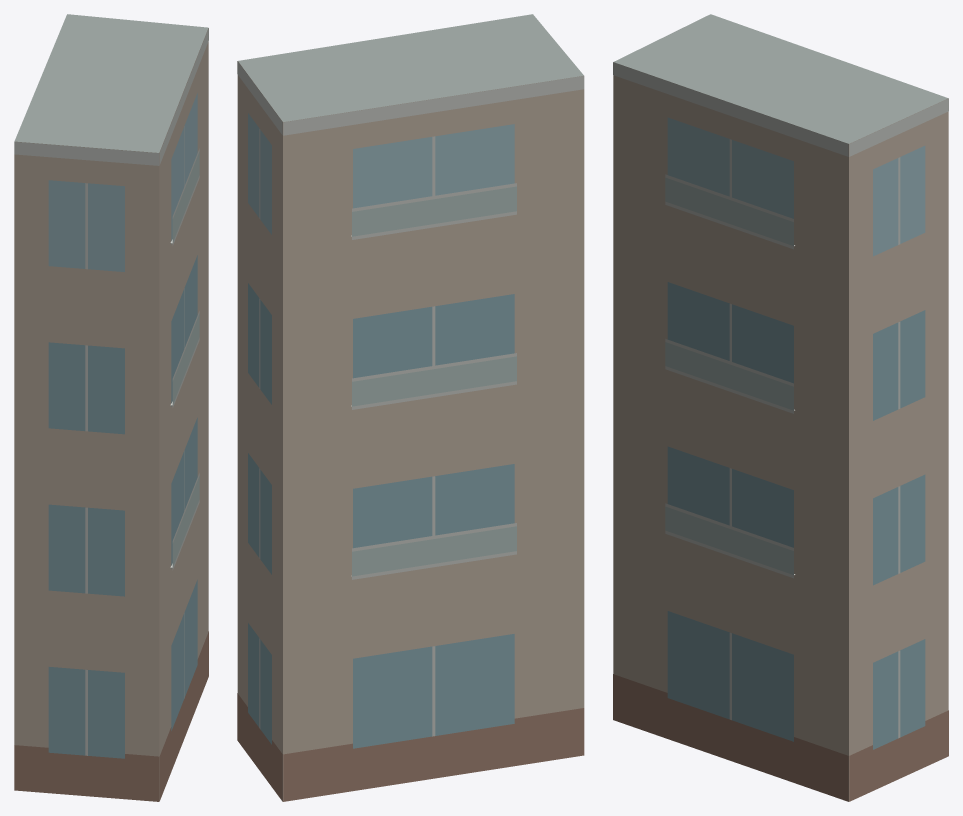
File: survey-upis-32634932.glb
The picture shows the model from 3 angles, left to right: view 1: azimuth 30°, elevation 25°; view 2: azimuth 150°, elevation 25°; view 3: azimuth 270°, elevation 25°; orthographic projection. The views are drawn at different scales.
Visible parts, largest first — view 1: survey-upis-32634932.tmp; view 2: survey-upis-32634932.tmp; view 3: survey-upis-32634932.tmp.
Part boxes in pixels (bbox=[...]): survey-upis-32634932.tmp: bbox=[14, 14, 208, 801]; survey-upis-32634932.tmp: bbox=[237, 14, 584, 801]; survey-upis-32634932.tmp: bbox=[613, 14, 948, 801].
Size of the model in its own units: 5.17 by 12.2 by 5.64.
